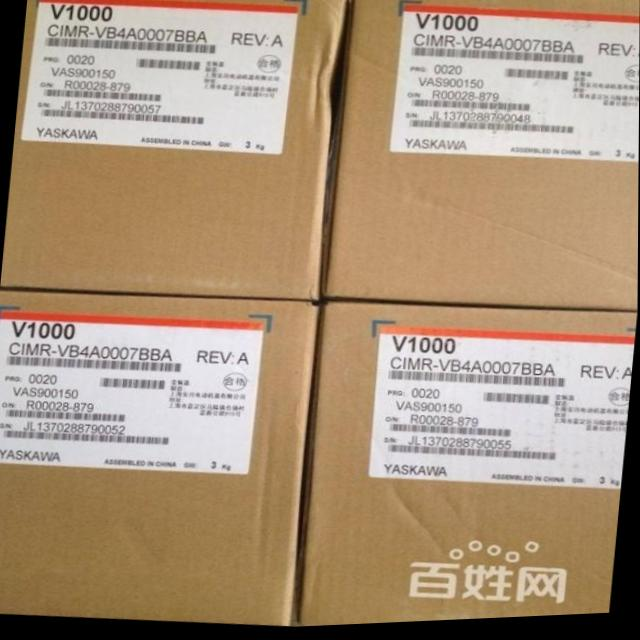box: (301, 305, 638, 629), (0, 291, 321, 628), (0, 0, 351, 302), (323, 0, 640, 317)
